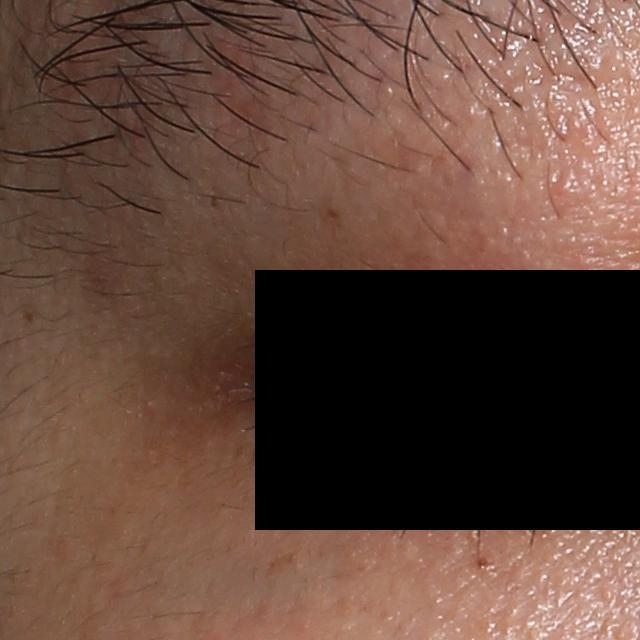nevus: (472, 553, 497, 578)
